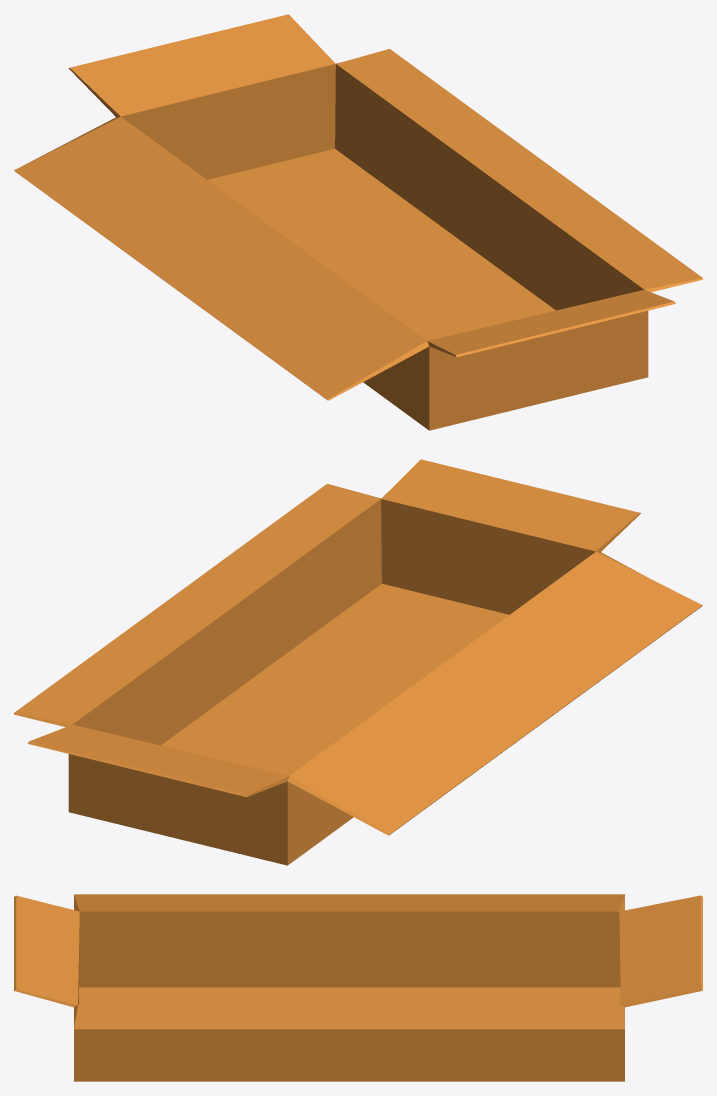
Rendered from Caja.002.glb.
3 renders of one model, top to bottom at view 1: azimuth 30°, elevation 25°; view 2: azimuth 150°, elevation 25°; view 3: azimuth 270°, elevation 25°, orthographic. The views are drawn at different scales.
Visible parts, largest first — view 1: Caja.002; view 2: Caja.002; view 3: Caja.002.
Boxes of the visible parts, x1,y1,x2,y2 form: Caja.002: (14, 14, 702, 430); Caja.002: (14, 459, 702, 865); Caja.002: (14, 894, 702, 1081).
Size of the model in its own units: 9.49 by 2.49 by 17.12.
